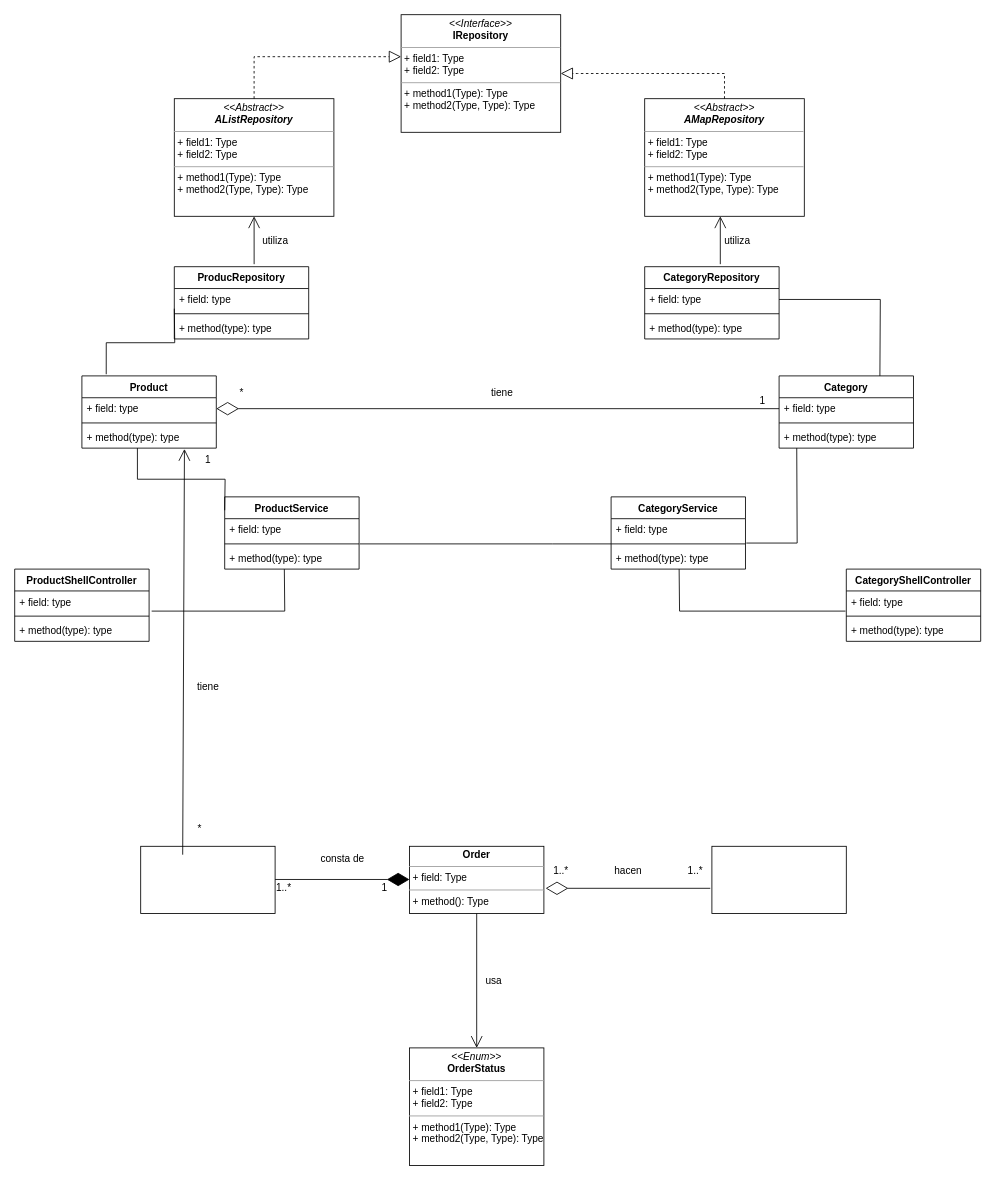
The diagram is 995 pixels wide and 1180 high, and some of its shapes have lost their labels. The centre of each missing label's shape, as x and y in pixels:
Client + field: Type + method(): Type: the point at 778,879
OrederLine + field: Type + method(): Type: the point at 207,879
